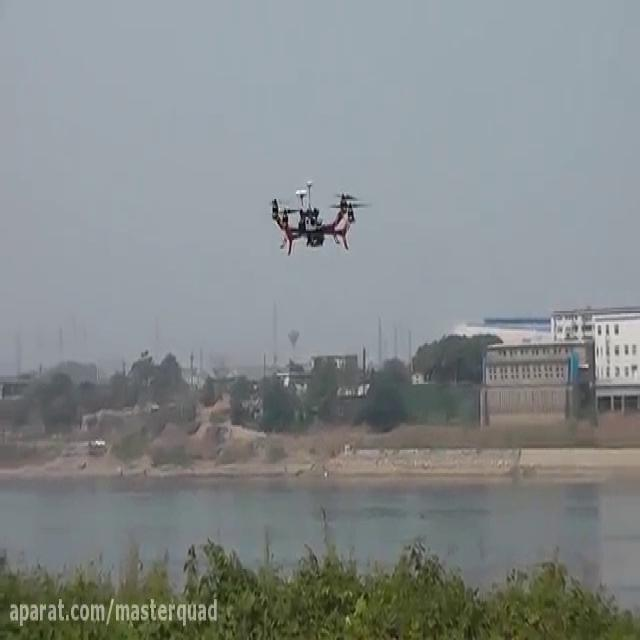drone: (264, 171, 374, 256)
